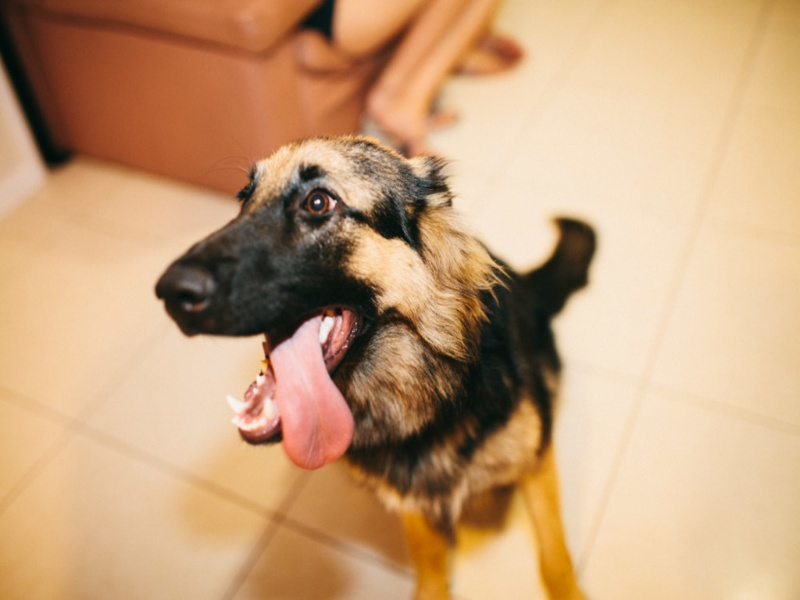dog: (143, 125, 609, 600)
